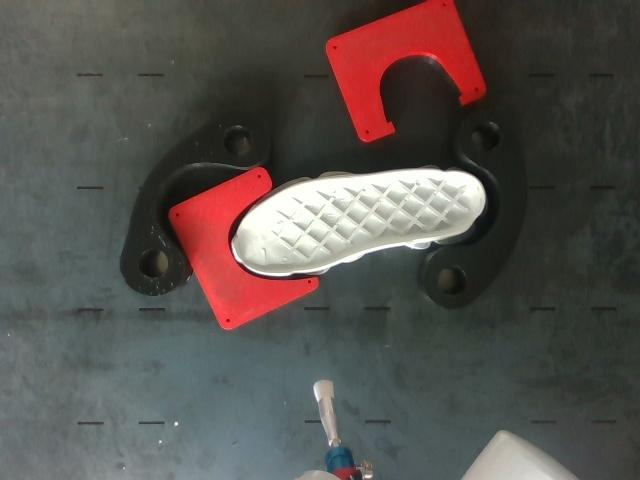shoes: (234, 170, 485, 273)
